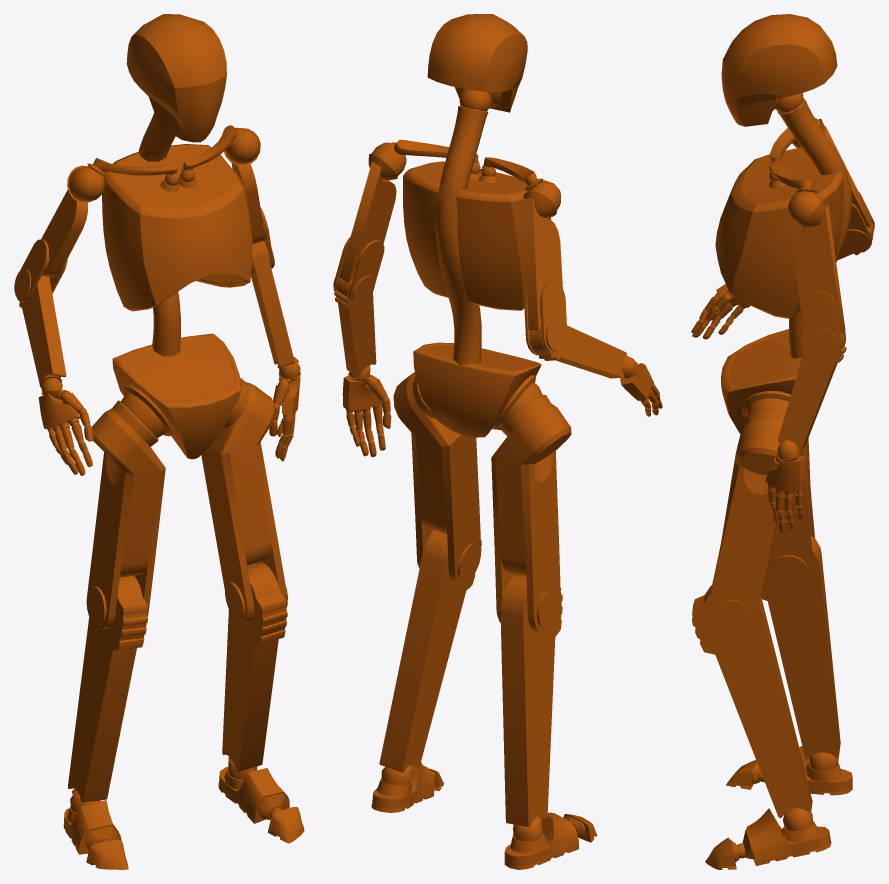
File: RobotAnimacja_000020.obj
3 views of the same model, side by side, from view 1: azimuth 30°, elevation 25°; view 2: azimuth 150°, elevation 25°; view 3: azimuth 270°, elevation 25° (orthographic).
Visible parts, largest first — view 1: free3dmodel.001; view 2: free3dmodel.001; view 3: free3dmodel.001.
Part boxes in pixels (left/top/right/bottom): free3dmodel.001: left=14, top=14, right=304, bottom=869; free3dmodel.001: left=333, top=14, right=662, bottom=869; free3dmodel.001: left=691, top=14, right=874, bottom=869.
Size of the model in its own units: 2.15 by 6.02 by 1.24.
